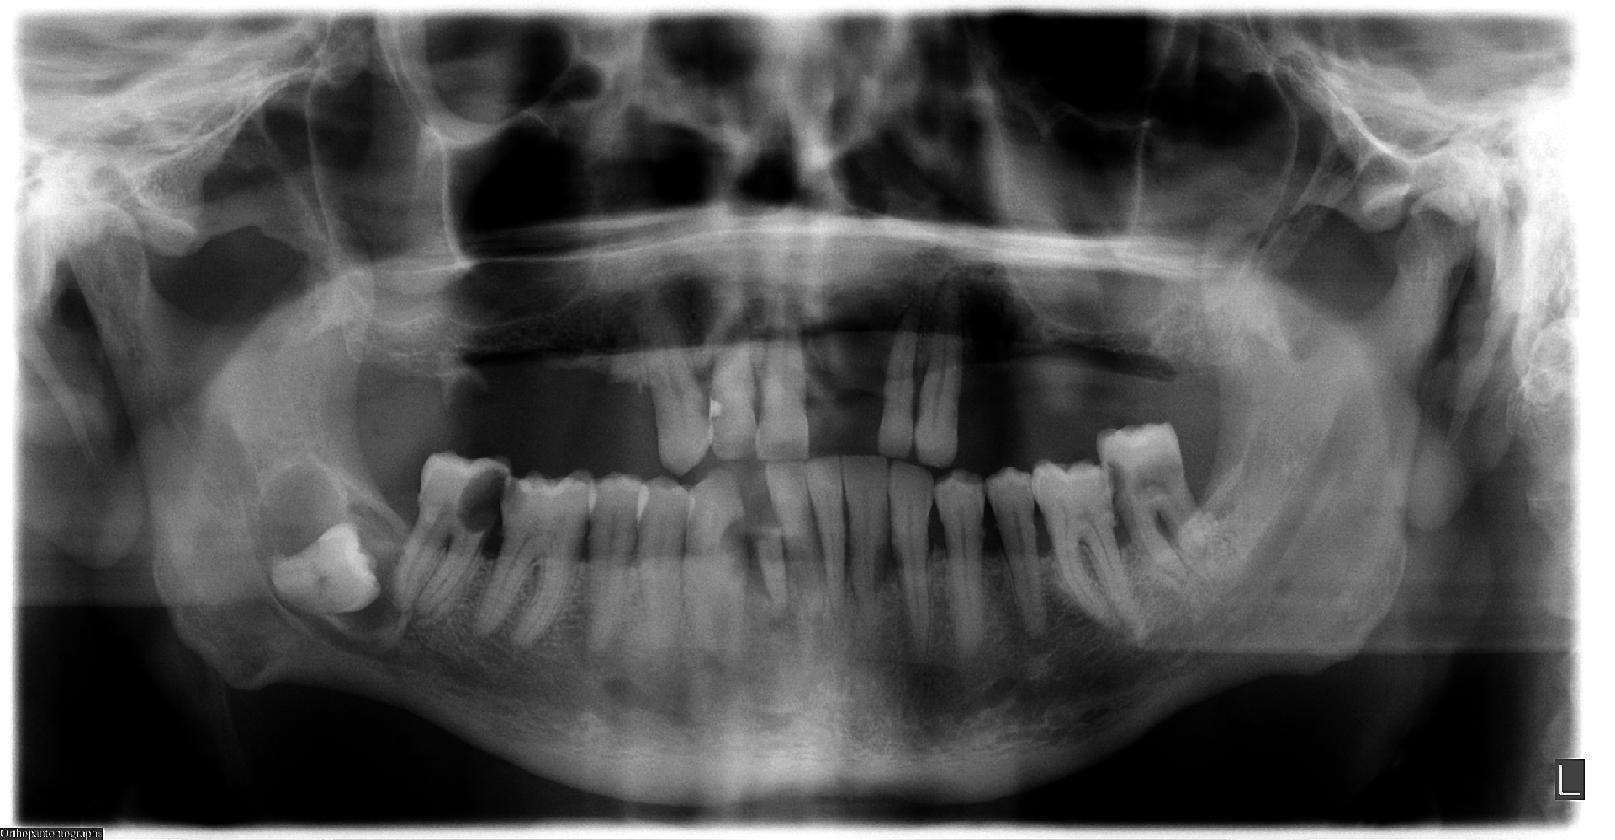Mesio-angular: (259, 500, 388, 634)
